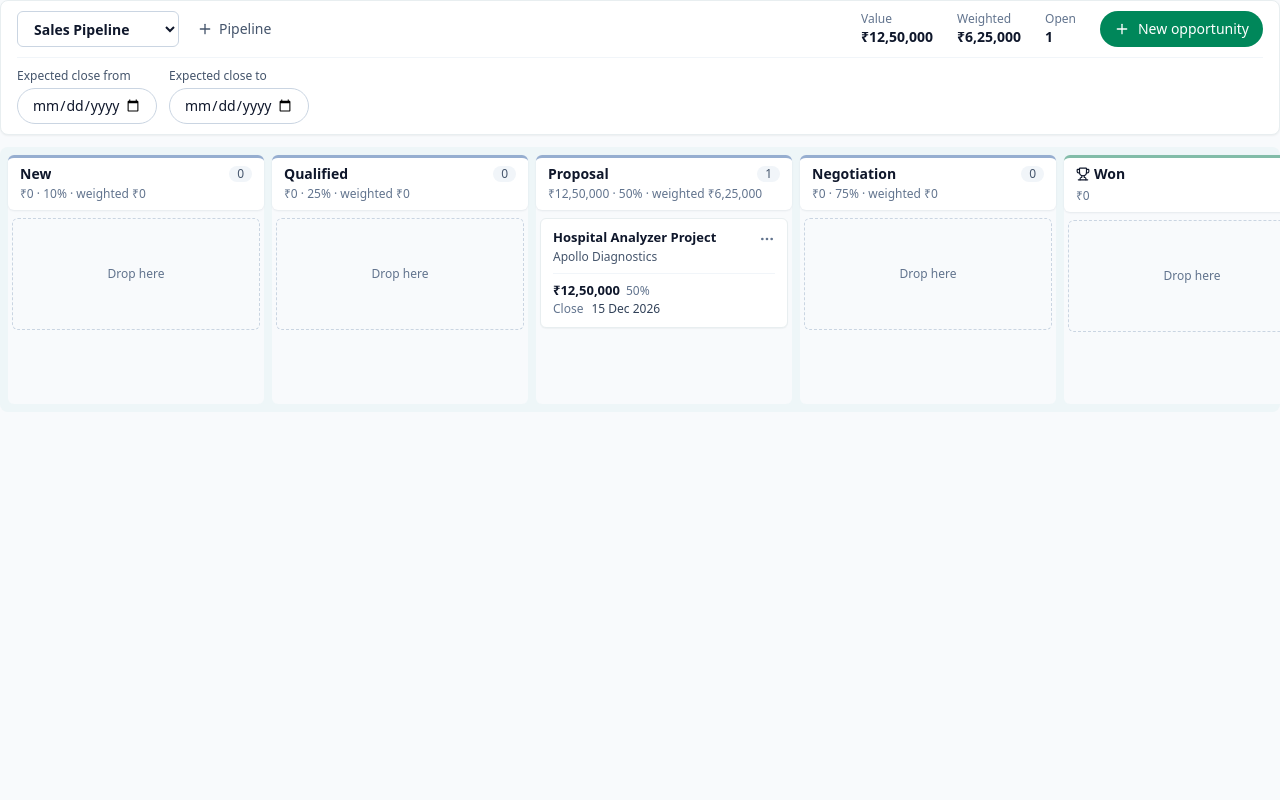
it: F9: retrying in the won/lost dialog after a 409 › uses the version the reloaded board shows
Click the button named "Move Hospital Analyzer Project": [767, 239] box [751,223,783,255]
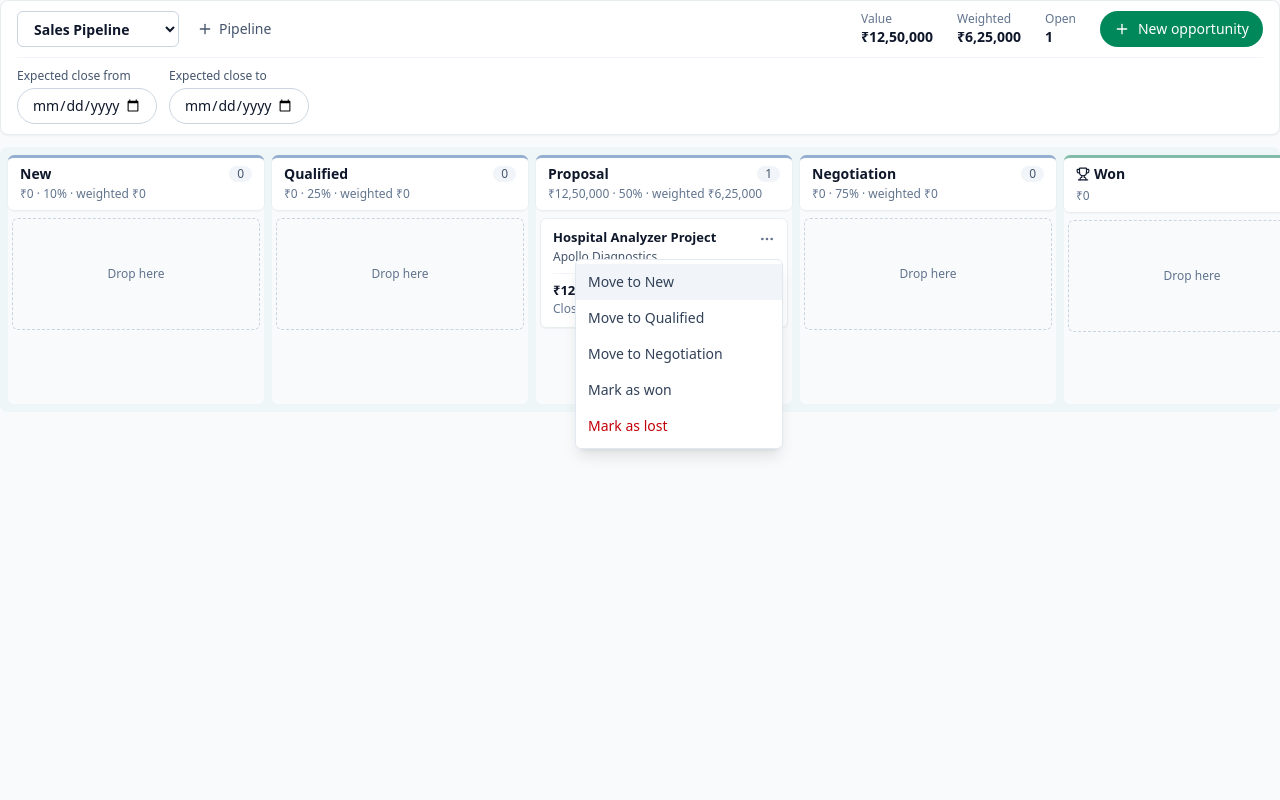
Click the menu item "Mark as won": [679, 390] box [576,372,782,408]
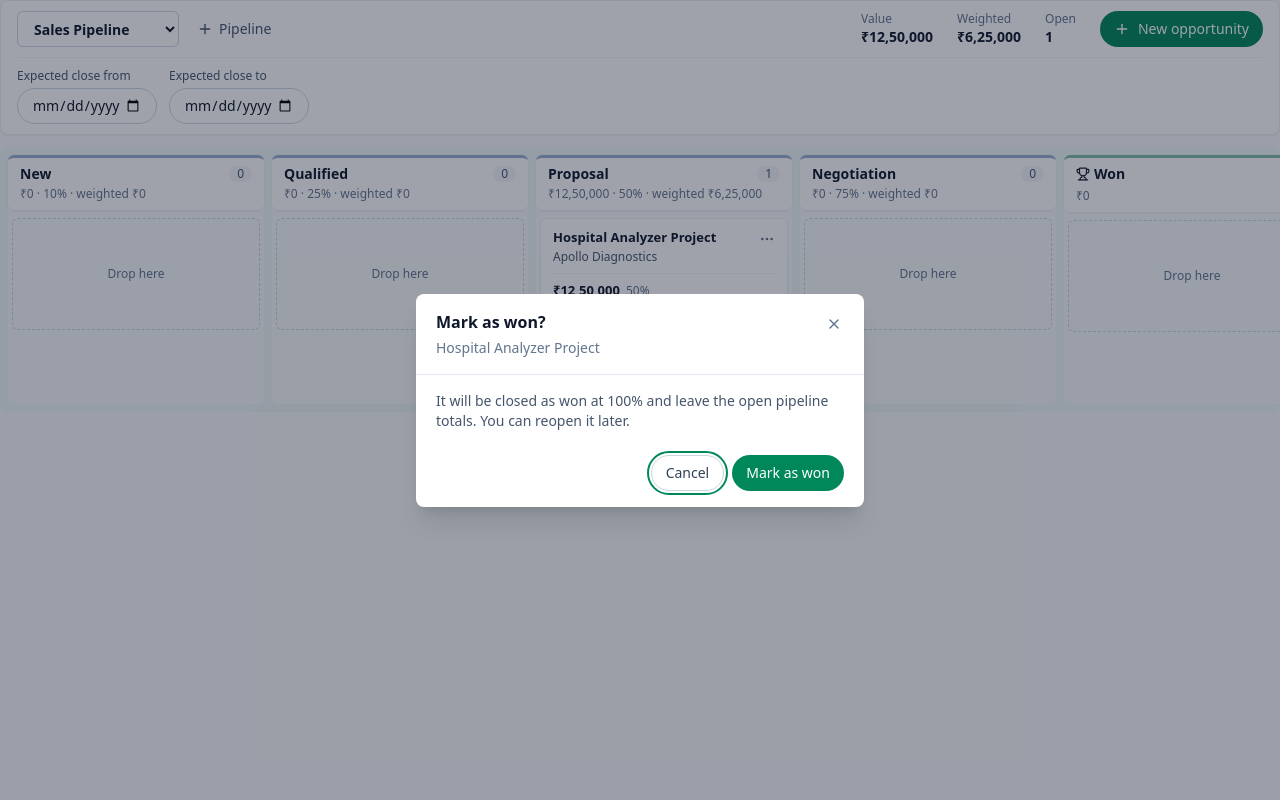
Click the button "Mark as won": [788, 472] box [732,454,844,490]
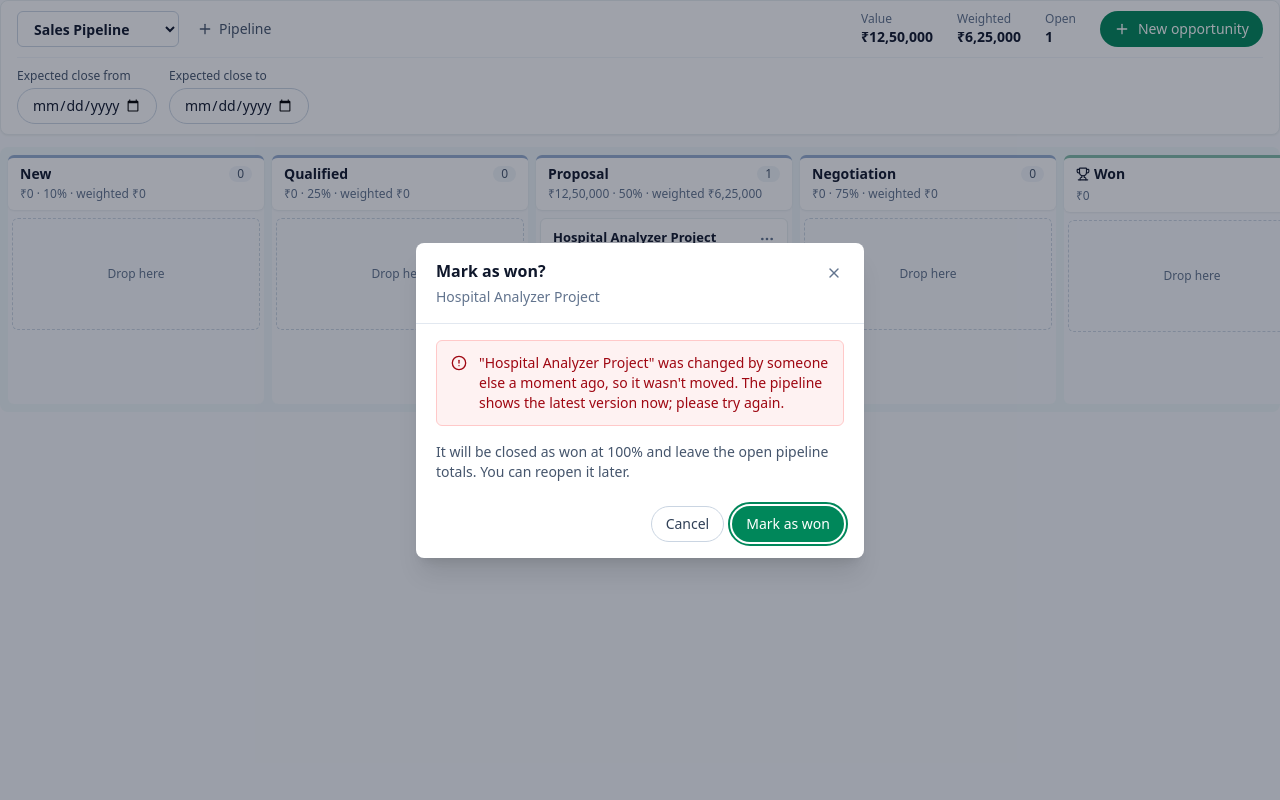
Expected: the text "please try again" is shown, [479,352,828,412]
Click the button "Mark as won": [788, 524] box [732,506,844,542]
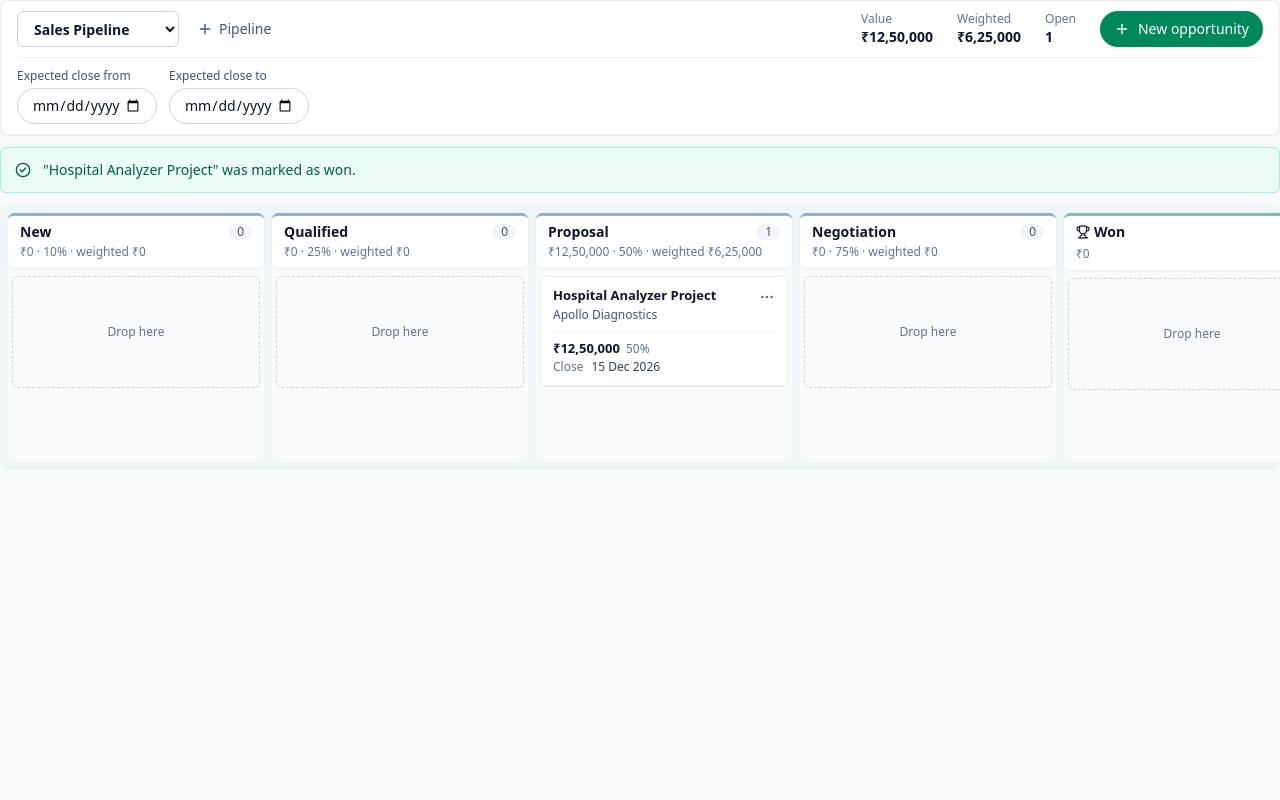
Expected: the text "\"Hospital Analyzer Project\" was marked as won." is shown, [43,160,356,179]
